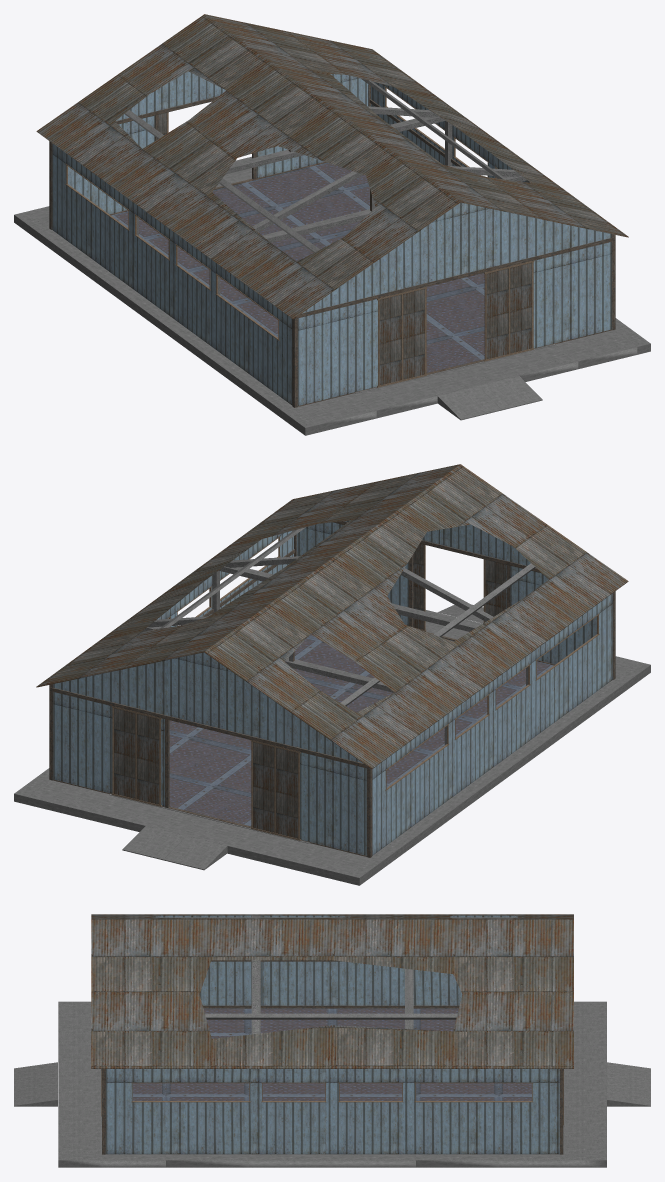
Rendered from Building_Ck01_2048_lod1.glb.
The picture shows the model from 3 angles, top to bottom: view 1: azimuth 30°, elevation 25°; view 2: azimuth 150°, elevation 25°; view 3: azimuth 270°, elevation 25°; orthographic projection. The views are drawn at different scales.
Visible parts, largest first — view 1: xiutz_ck_01_lod1; view 2: xiutz_ck_01_lod1; view 3: xiutz_ck_01_lod1.
Boxes of the visible parts, x1,y1,x2,y2 form: xiutz_ck_01_lod1: [14, 14, 650, 435]; xiutz_ck_01_lod1: [14, 464, 650, 885]; xiutz_ck_01_lod1: [14, 914, 650, 1167].
Size of the model in its own units: 18.24 by 9.03 by 30.93.
Materials: 1 (1 with a texture image).
